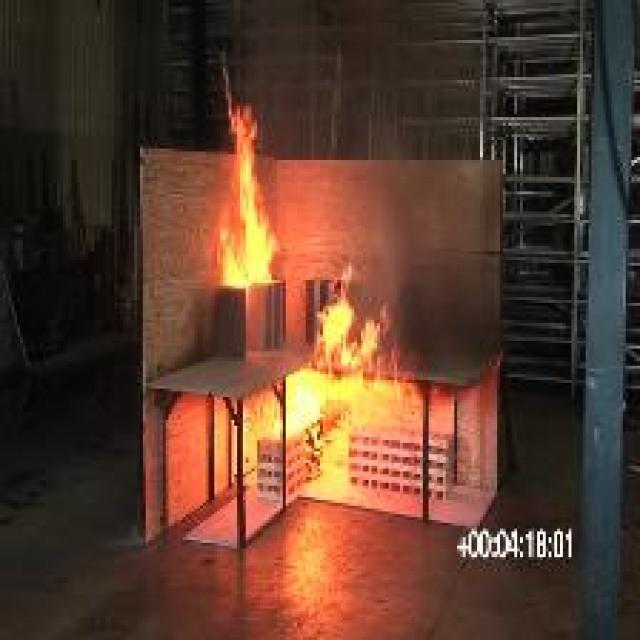Fire: (288, 272, 423, 472), (223, 103, 280, 283)
